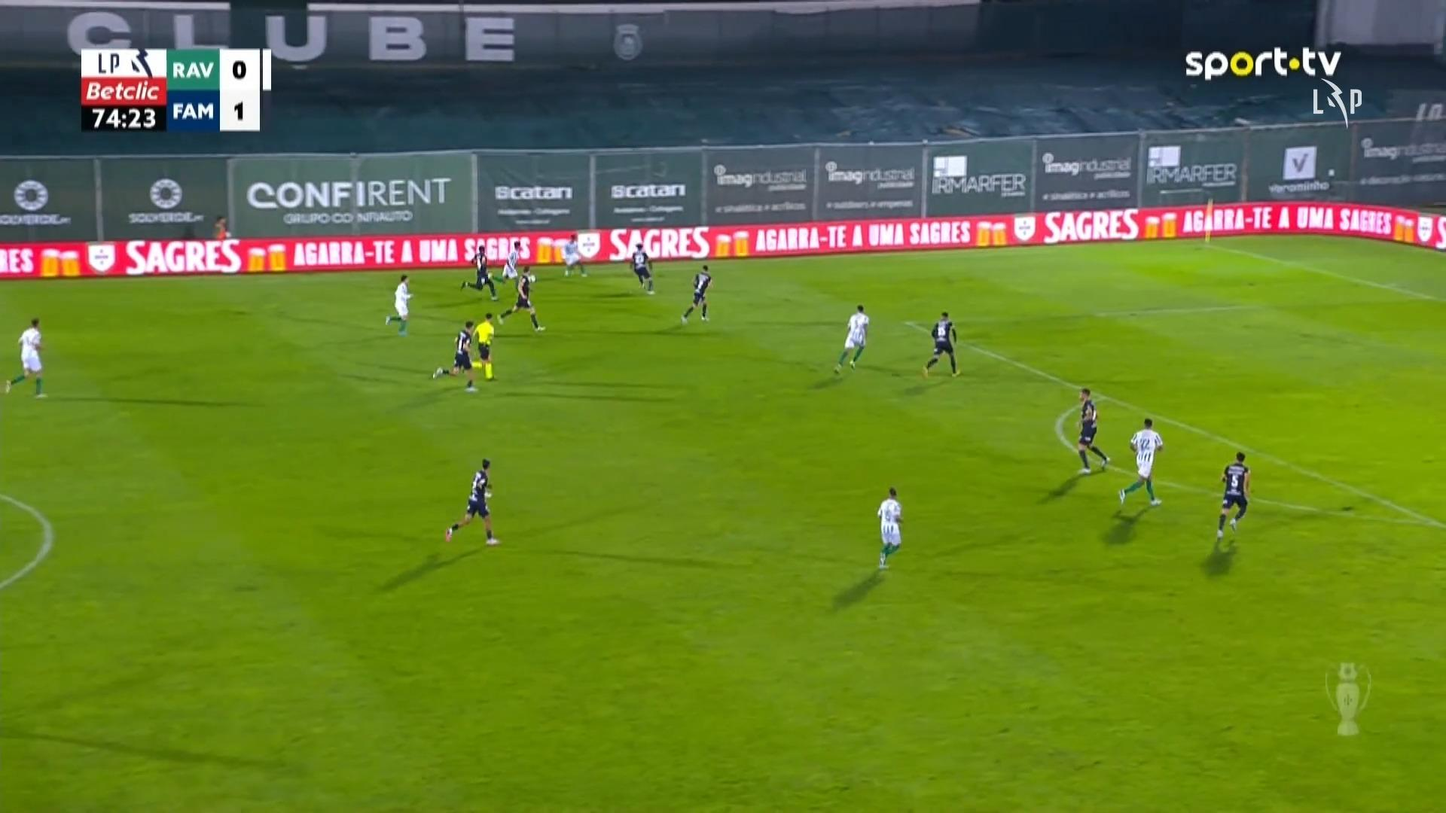player: (444, 458, 501, 546), (1117, 417, 1164, 506), (3, 317, 47, 398), (431, 319, 478, 391), (496, 265, 545, 331), (1216, 451, 1251, 539), (1075, 387, 1109, 474), (832, 303, 869, 374), (921, 311, 959, 379), (459, 242, 499, 302), (876, 486, 903, 569), (679, 263, 712, 324), (384, 273, 412, 336), (629, 242, 654, 294), (561, 233, 587, 277), (500, 239, 523, 282)
referee: (471, 311, 496, 380)
